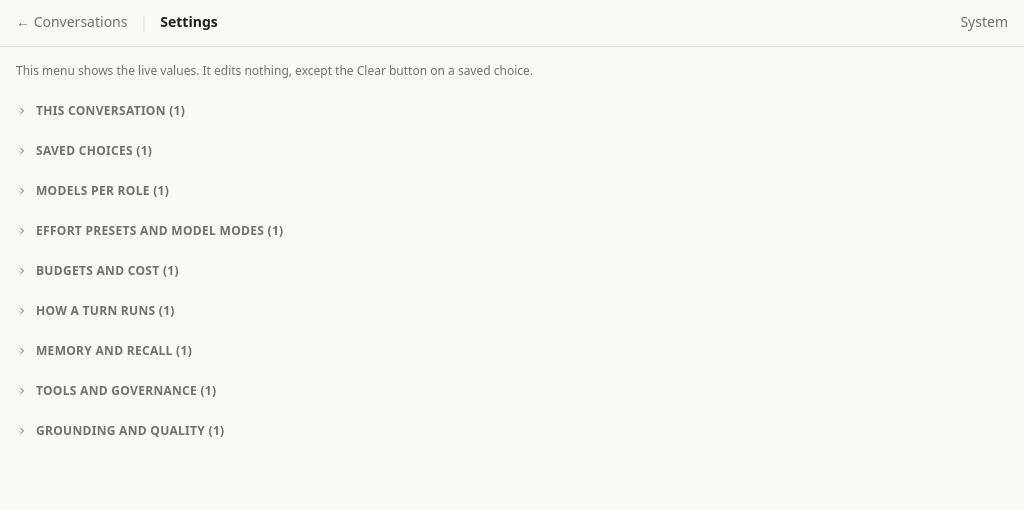
Test: SettingsView menu page (AC-1) › shows the nine groups, each row with its value and source, and no System group
Check: the heading "This conversation (1)" is shown, box top-left (16, 103), bottom-right (1008, 119)
Check: the heading "Saved choices (1)" is shown, box top-left (16, 143), bottom-right (1008, 159)
Click the button "How a turn runs (1)" at (96, 310), box top-left (16, 303), bottom-right (1008, 319)
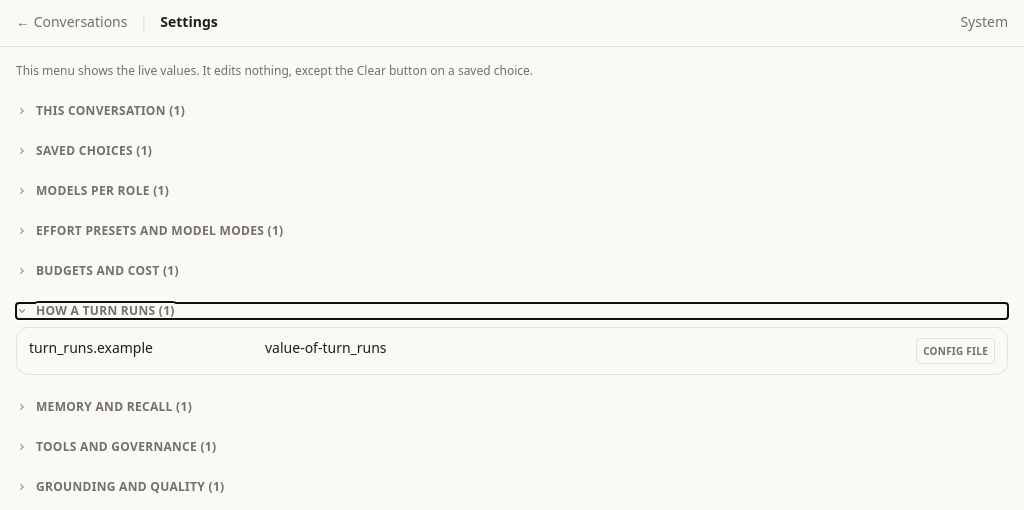
Check: the text "value-of-turn_runs" is shown, box top-left (265, 338), bottom-right (387, 357)
Check: the text "config file" is shown, box top-left (916, 338), bottom-right (995, 364)
